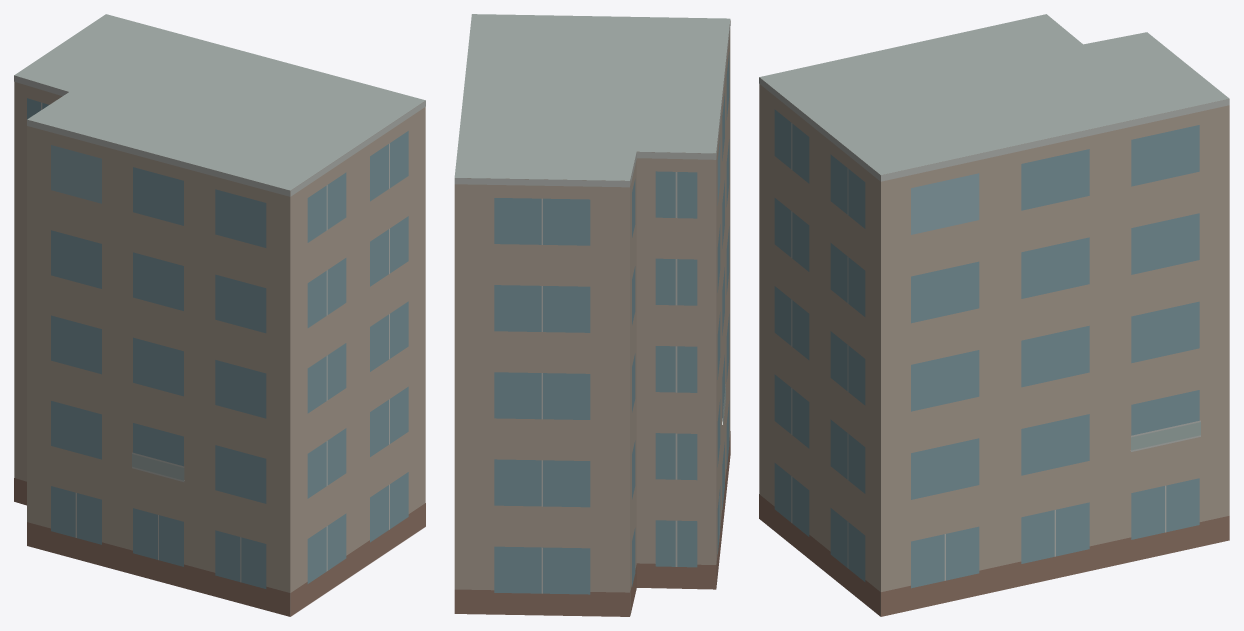
Rendered from survey-upis-32998042.glb.
3 renders of one model, left to right at view 1: azimuth 30°, elevation 25°; view 2: azimuth 150°, elevation 25°; view 3: azimuth 270°, elevation 25°, orthographic. The views are drawn at different scales.
Parts seen in each view (by area): view 1: survey-upis-32998042.tmp; view 2: survey-upis-32998042.tmp; view 3: survey-upis-32998042.tmp.
Part boxes in pixels (<box>): survey-upis-32998042.tmp: <box>14,14,425,616</box>; survey-upis-32998042.tmp: <box>454,14,730,616</box>; survey-upis-32998042.tmp: <box>759,14,1229,616</box>.
Bounding box in the file's own units: 12.96 × 16.55 × 15.99.
